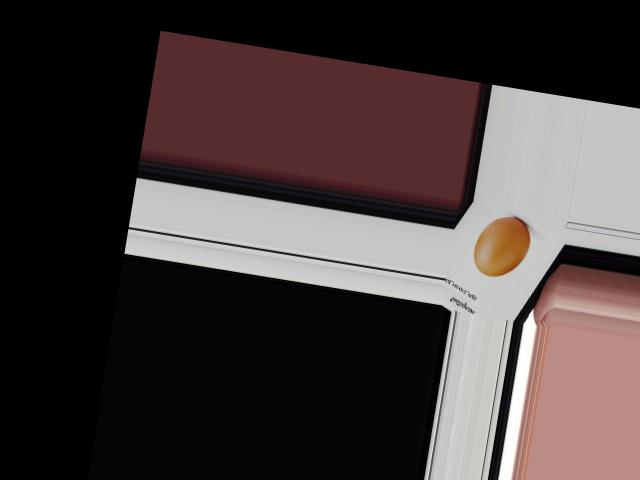egg: (471, 212, 533, 281)
